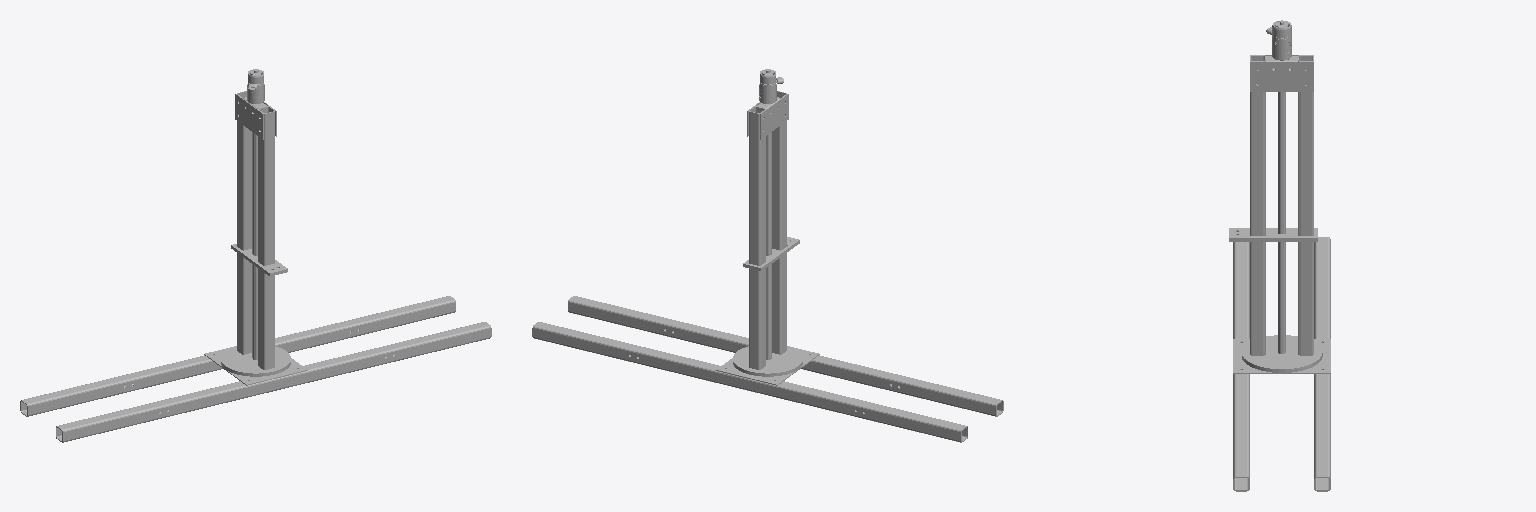
robot.urdf — chasis_urdf:
<?xml version="1.0" encoding="utf-8"?>
<!-- This URDF was automatically created by SolidWorks to URDF Exporter! Originally created by [author] ([email redacted]) 
     Commit Version: 1.6.0-4-g7f85cfe  Build Version: 1.6.7995.38578
     For more information, please see http://wiki.ros.org/sw_urdf_exporter -->
<robot
  name="chasis_urdf">
  <link
    name="base_link">
    <inertial>
      <origin
        xyz="-1.59349319575341E-05 -0.000403198248937114 0.164884480228516"
        rpy="0 0 0" />
      <mass
        value="0.408631703851002" />
      <inertia
        ixx="0.00156695773909134"
        ixy="-1.72231405828274E-08"
        ixz="-1.91947046803438E-10"
        iyy="0.00754203792430675"
        iyz="-2.17504083896834E-10"
        izz="0.00612890873923272" />
    </inertial>
    <visual>
      <origin
        xyz="0 0 0"
        rpy="0 0 0" />
      <geometry>
        <mesh
          filename="package://chasis_urdf/meshes/base_link.STL" />
      </geometry>
      <material
        name="">
        <color
          rgba="0.752941176470588 0.752941176470588 0.752941176470588 1" />
      </material>
    </visual>
    <collision>
      <origin
        xyz="0 0 0"
        rpy="0 0 0" />
      <geometry>
        <mesh
          filename="package://chasis_urdf/meshes/base_link.STL" />
      </geometry>
    </collision>
  </link>
  <link
    name="front_left">
    <inertial>
      <origin
        xyz="7.1456E-05 -0.020363 2.4702E-05"
        rpy="0 0 0" />
      <mass
        value="0.023929" />
      <inertia
        ixx="4.3974E-06"
        ixy="-1.4444E-08"
        ixz="4.4573E-09"
        iyy="6.347E-06"
        iyz="-4.9729E-09"
        izz="4.386E-06" />
    </inertial>
    <visual>
      <origin
        xyz="0 0 0"
        rpy="0 0 0" />
      <geometry>
        <mesh
          filename="package://chasis_urdf/meshes/front_left.STL" />
      </geometry>
      <material
        name="">
        <color
          rgba="0.79216 0.81961 0.93333 1" />
      </material>
    </visual>
    <collision>
      <origin
        xyz="0 0 0"
        rpy="0 0 0" />
      <geometry>
        <mesh
          filename="package://chasis_urdf/meshes/front_left.STL" />
      </geometry>
    </collision>
  </link>
  <joint
    name="front_left"
    type="continuous">
    <origin
      xyz="0.18445 -0.0615 0.05"
      rpy="0 0 0" />
    <parent
      link="base_link" />
    <child
      link="front_left" />
    <axis
      xyz="0 -1 0" />
  </joint>
  <link
    name="front_right">
    <inertial>
      <origin
        xyz="7.4469E-05 -0.020363 1.3059E-05"
        rpy="0 0 0" />
      <mass
        value="0.023929" />
      <inertia
        ixx="4.3985E-06"
        ixy="-1.5049E-08"
        ixz="2.4507E-09"
        iyy="6.347E-06"
        iyz="-2.6199E-09"
        izz="4.3849E-06" />
    </inertial>
    <visual>
      <origin
        xyz="0 0 0"
        rpy="0 0 0" />
      <geometry>
        <mesh
          filename="package://chasis_urdf/meshes/front_right.STL" />
      </geometry>
      <material
        name="">
        <color
          rgba="0.79216 0.81961 0.93333 1" />
      </material>
    </visual>
    <collision>
      <origin
        xyz="0 0 0"
        rpy="0 0 0" />
      <geometry>
        <mesh
          filename="package://chasis_urdf/meshes/front_right.STL" />
      </geometry>
    </collision>
  </link>
  <joint
    name="front_right"
    type="continuous">
    <origin
      xyz="-0.18445 -0.0615 0.05"
      rpy="0 0 0" />
    <parent
      link="base_link" />
    <child
      link="front_right" />
    <axis
      xyz="0 -1 0" />
  </joint>
  <link
    name="back_left">
    <inertial>
      <origin
        xyz="6.5483E-05 0.020363 -3.7823E-05"
        rpy="0 0 0" />
      <mass
        value="0.023929" />
      <inertia
        ixx="4.3953E-06"
        ixy="1.3227E-08"
        ixz="-6.3062E-09"
        iyy="6.3471E-06"
        iyz="-7.6362E-09"
        izz="4.3881E-06" />
    </inertial>
    <visual>
      <origin
        xyz="0 0 0"
        rpy="0 0 0" />
      <geometry>
        <mesh
          filename="package://chasis_urdf/meshes/back_left.STL" />
      </geometry>
      <material
        name="">
        <color
          rgba="0.79216 0.81961 0.93333 1" />
      </material>
    </visual>
    <collision>
      <origin
        xyz="0 0 0"
        rpy="0 0 0" />
      <geometry>
        <mesh
          filename="package://chasis_urdf/meshes/back_left.STL" />
      </geometry>
    </collision>
  </link>
  <joint
    name="back_left"
    type="continuous">
    <origin
      xyz="0.18445 0.0615 0.05"
      rpy="0 0 0" />
    <parent
      link="base_link" />
    <child
      link="back_left" />
    <axis
      xyz="0 -1 0" />
  </joint>
  <link
    name="back_right">
    <inertial>
      <origin
        xyz="7.0522E-05 0.020363 -2.7281E-05"
        rpy="0 0 0" />
      <mass
        value="0.023928" />
      <inertia
        ixx="4.3969E-06"
        ixy="1.422E-08"
        ixz="-4.803E-09"
        iyy="6.347E-06"
        iyz="-5.5648E-09"
        izz="4.3863E-06" />
    </inertial>
    <visual>
      <origin
        xyz="0 0 0"
        rpy="0 0 0" />
      <geometry>
        <mesh
          filename="package://chasis_urdf/meshes/back_right.STL" />
      </geometry>
      <material
        name="">
        <color
          rgba="0.79216 0.81961 0.93333 1" />
      </material>
    </visual>
    <collision>
      <origin
        xyz="0 0 0"
        rpy="0 0 0" />
      <geometry>
        <mesh
          filename="package://chasis_urdf/meshes/back_right.STL" />
      </geometry>
    </collision>
  </link>
  <joint
    name="back_right"
    type="continuous">
    <origin
      xyz="-0.18445 0.0615 0.05"
      rpy="0 0 0" />
    <parent
      link="base_link" />
    <child
      link="back_right" />
    <axis
      xyz="0 -1 0" />
  </joint>
</robot>

--- What the picture shows (computed from the rendered views, not written in the file) ---
The picture shows the robot from 3 angles, left to right: view 1: azimuth 30°, elevation 25°; view 2: azimuth 150°, elevation 25°; view 3: azimuth 270°, elevation 25°; orthographic projection.
Model chasis_urdf with 5 links and 4 joints (4 continuous), rooted at base_link, posed every joint at zero.
Visible links, largest first — view 1: base_link; view 2: base_link; view 3: base_link.
Link boxes in pixels (left/top/right/bottom): base_link: left=20, top=69, right=491, bottom=442; base_link: left=532, top=69, right=1003, bottom=442; base_link: left=1229, top=20, right=1330, bottom=491.
Size in the robot's own frame: 0.7 by 0.125 by 0.4769 metres.
1 mesh visuals loaded from 5 distinct referenced files (1 binary STL); not drawn: 4 (reference not matched to a file when rendering).